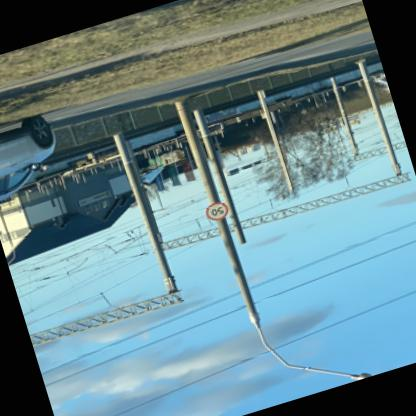speedlimit: (203, 200, 231, 226)
